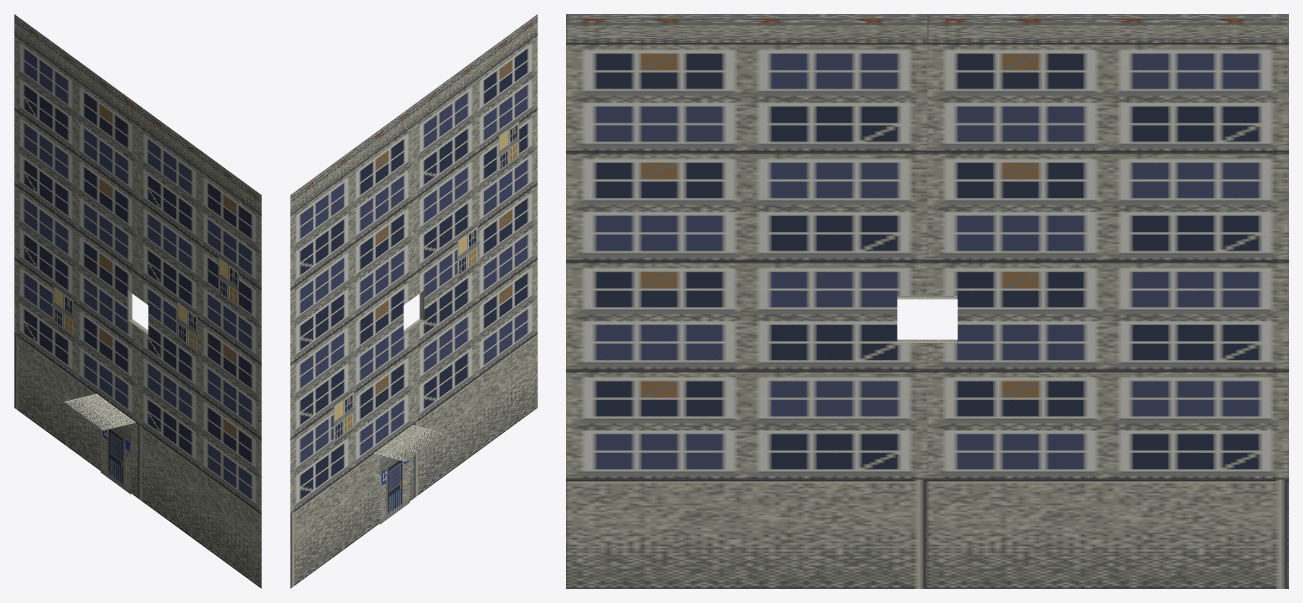
The model's file is house.glb.
The picture shows the model from 3 angles, left to right: view 1: azimuth 30°, elevation 25°; view 2: azimuth 150°, elevation 25°; view 3: azimuth 270°, elevation 25°; orthographic projection. The views are drawn at different scales.
Visible parts, largest first — view 1: house; view 2: house; view 3: house.
Part boxes in pixels (x1,y1,x2,y2): house: (14,14,261,588); house: (290,14,537,588); house: (566,14,1288,588).
Bounding box in the file's own units: 1.6 × 15.8 × 18.
Materials: 1 (1 with a texture image).
